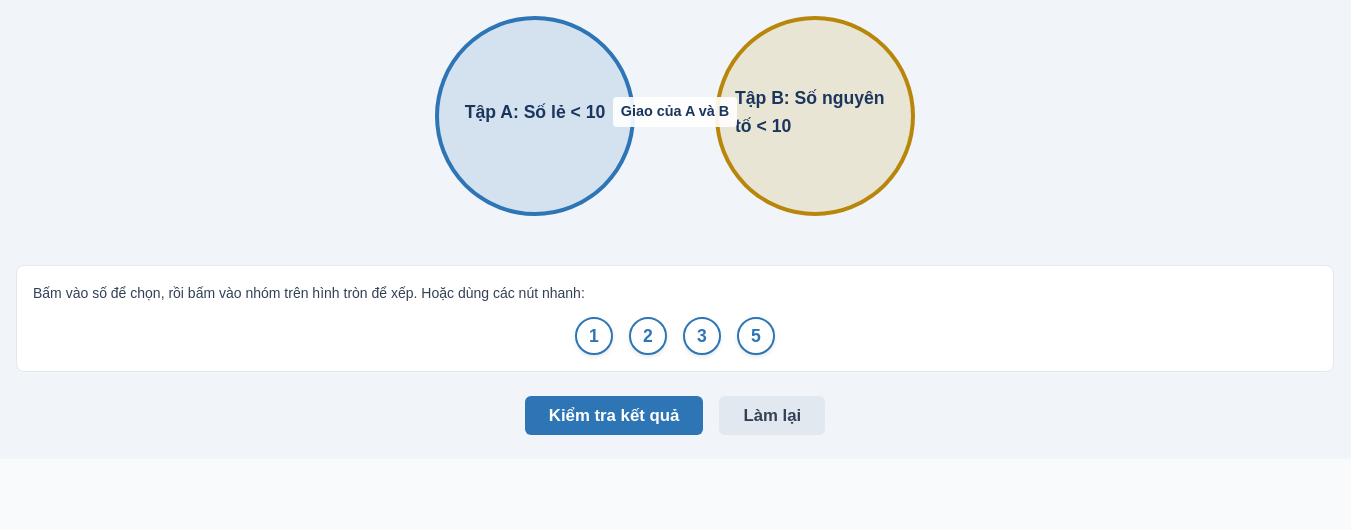
Test: VennDiagram Component › shows error feedback on incorrect configuration
Move 1 to B (incorrect, 1 is in A only)
Click the button with test id "badge-pool-1".
click(594, 336)  # box [575,317,613,355]
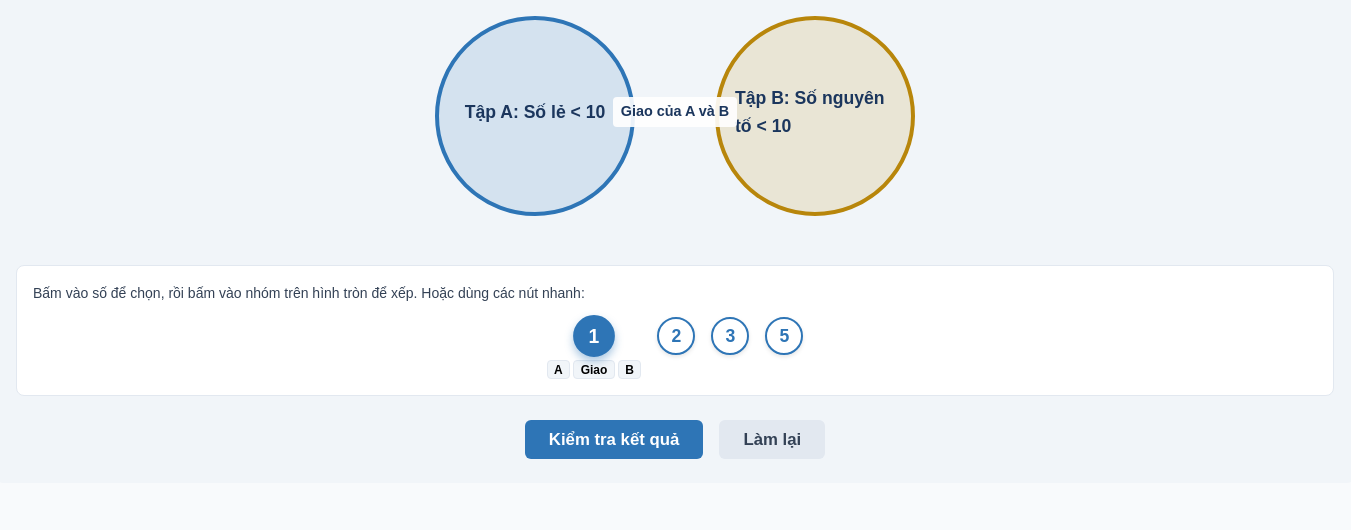
Click the button "B".
click(630, 370)  # box [618,360,641,379]
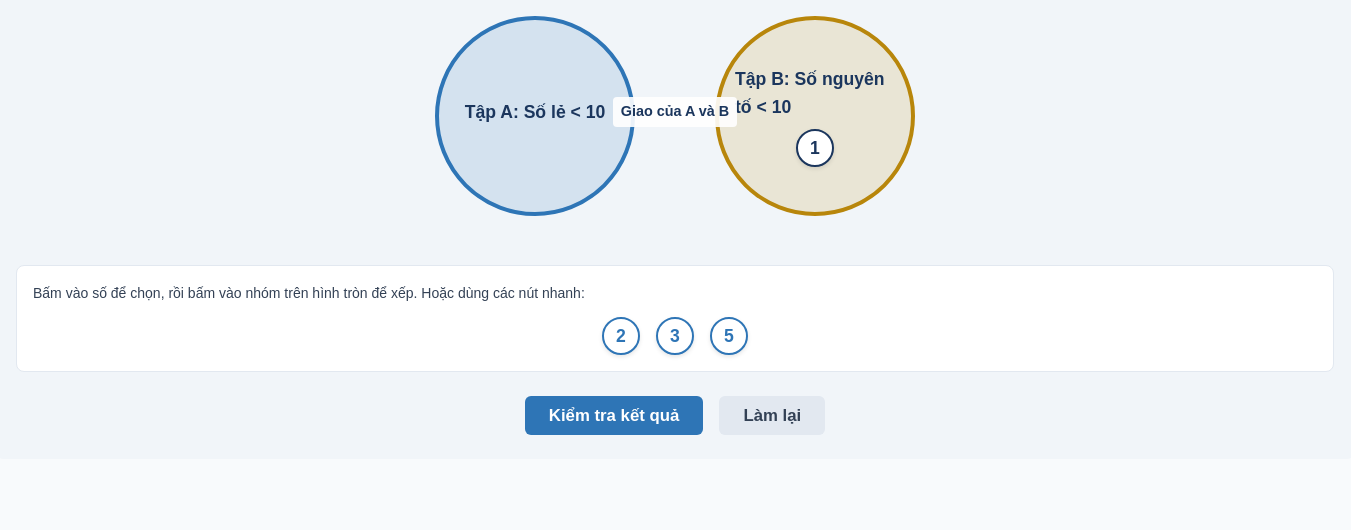
Click Verify
Click the button with test id "btn-verify".
click(614, 416)  # box [525,396,703,435]
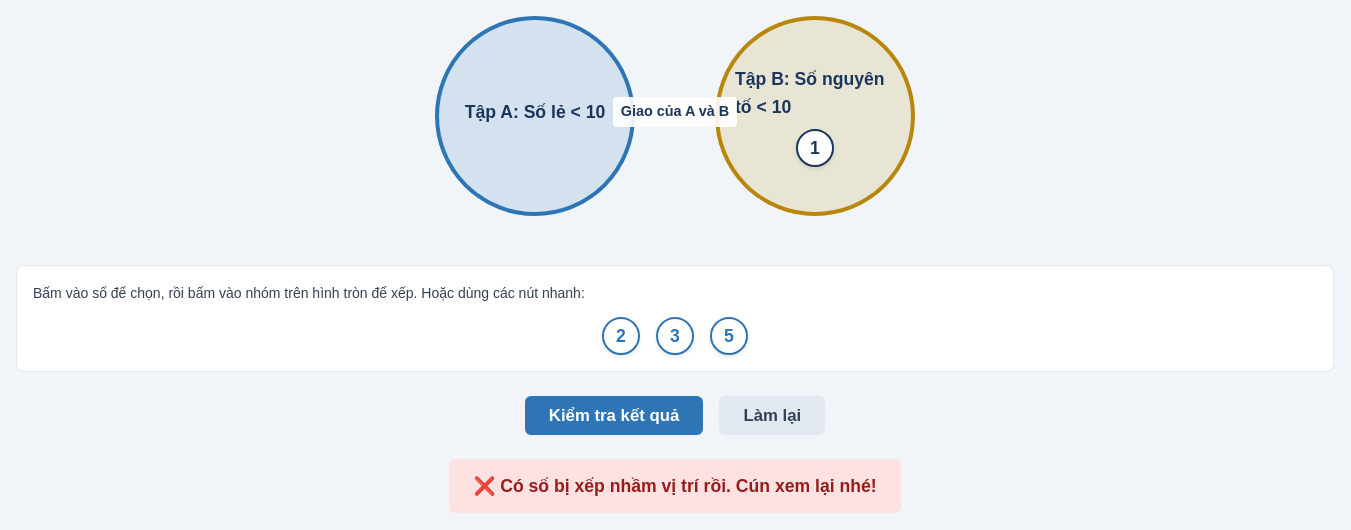
Now the message with test id "venn-feedback" shows "xem lại nhé", box [473,476,877,496]
